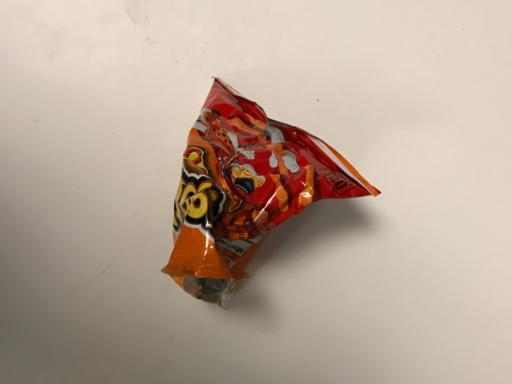trash: (160, 77, 383, 309)
